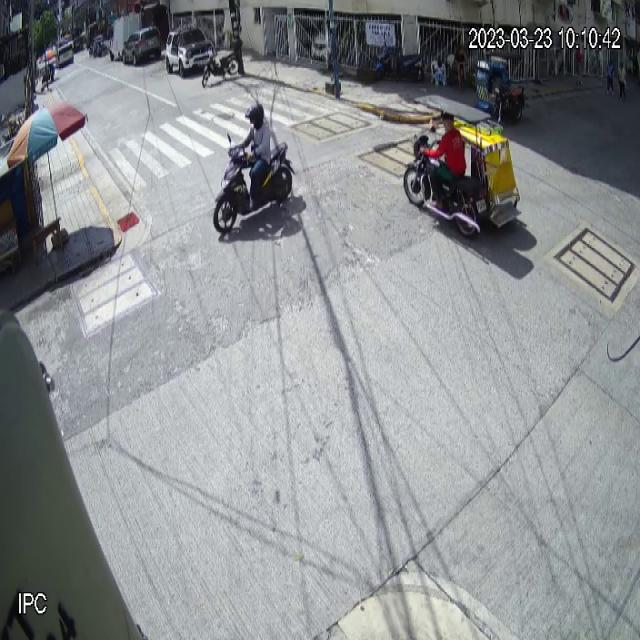Motorcycle: (212, 132, 297, 239), (202, 37, 243, 88)
Tricycle: (402, 93, 523, 240)
